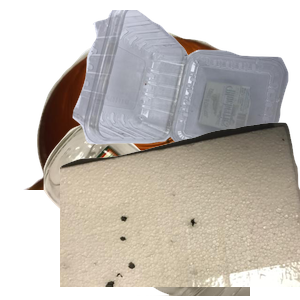glass: (41, 120, 281, 300)
metal: (21, 29, 261, 209)
plastic: (70, 10, 300, 171)
trash: (60, 120, 300, 300)
